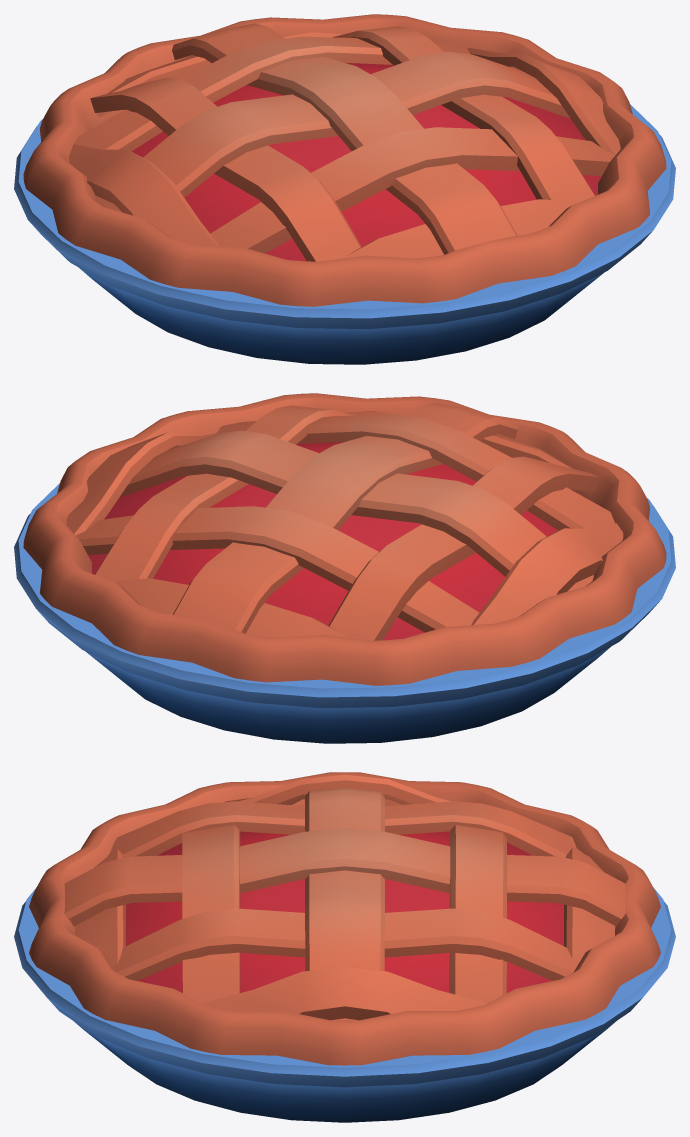
The model's file is SM_Pie_V01.fbx.
The picture shows the model from 3 angles, top to bottom: view 1: azimuth 30°, elevation 25°; view 2: azimuth 150°, elevation 25°; view 3: azimuth 270°, elevation 25°; orthographic projection.
Visible parts, largest first — view 1: SM_Pie_V01; view 2: SM_Pie_V01; view 3: SM_Pie_V01.
Boxes of the visible parts, x1=… form: SM_Pie_V01: x1=14, y1=14, x2=675, y2=364; SM_Pie_V01: x1=14, y1=393, x2=675, y2=743; SM_Pie_V01: x1=14, y1=772, x2=675, y2=1122.
Size of the model in its own units: 41.56 by 12.57 by 41.56.
